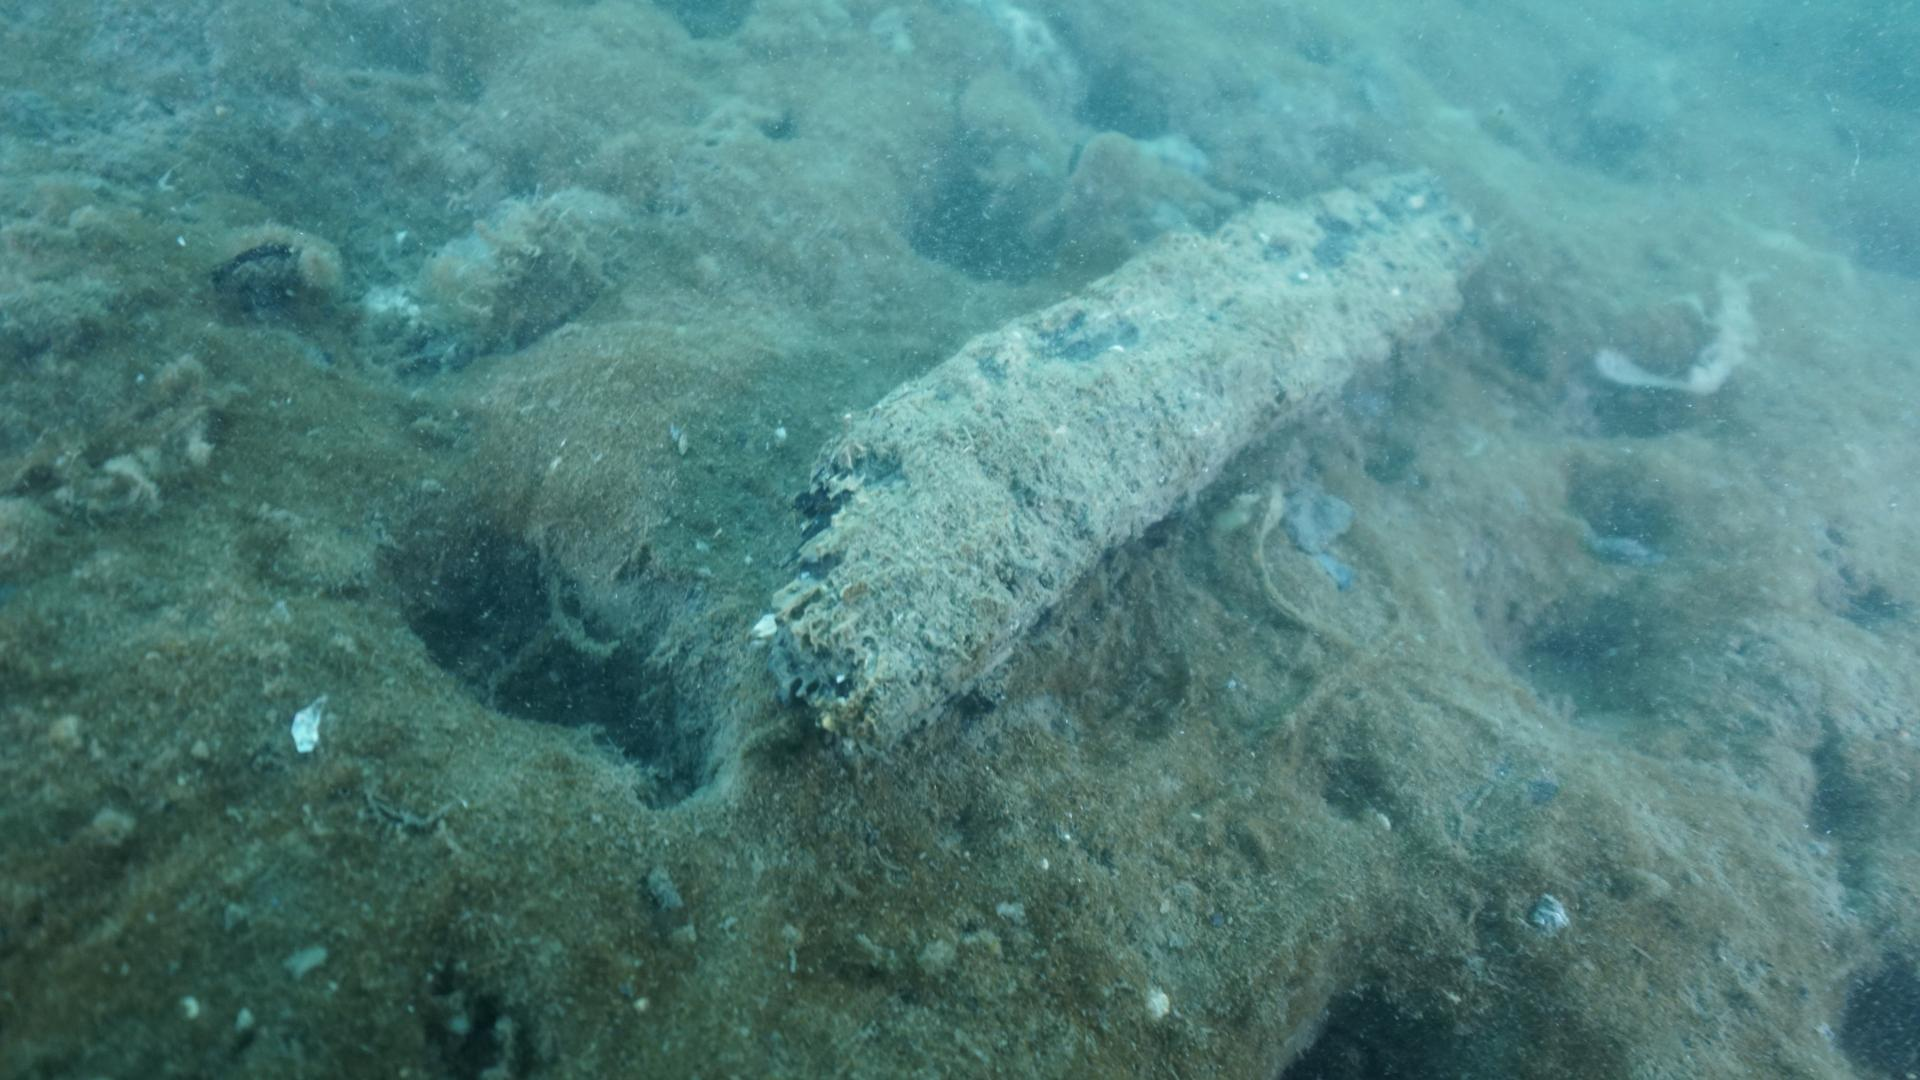wood: (740, 158, 1497, 781)
